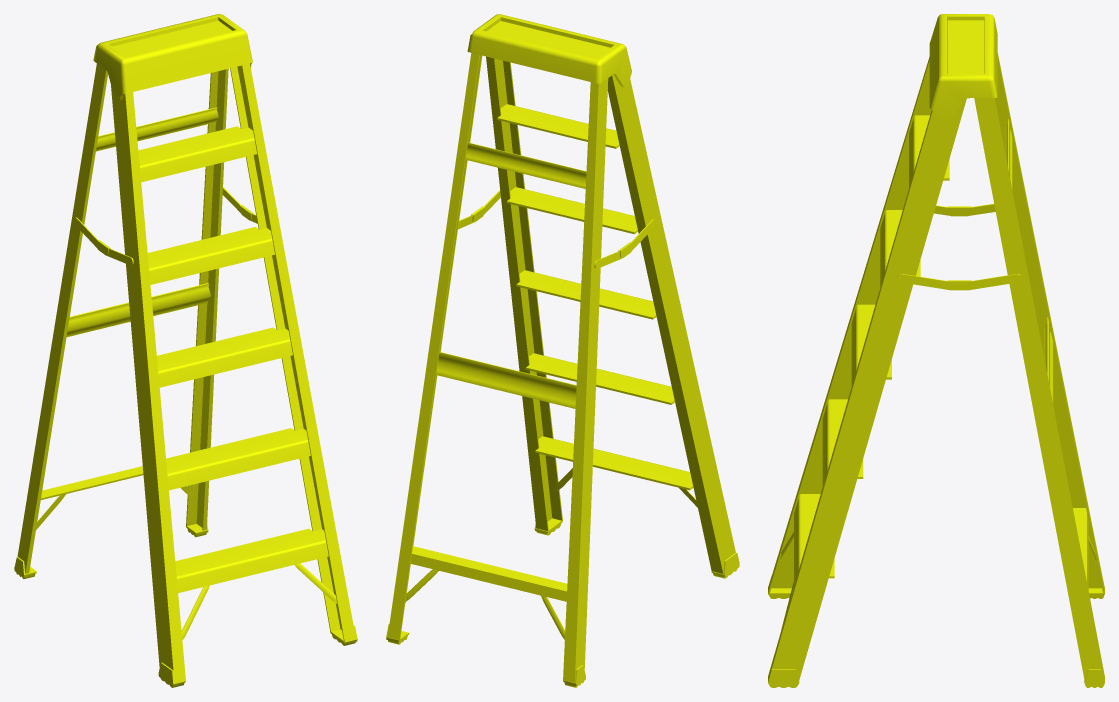
File: SM_Ladder_01b.FBX
3 renders of one model, left to right at view 1: azimuth 30°, elevation 25°; view 2: azimuth 150°, elevation 25°; view 3: azimuth 270°, elevation 25°, orthographic. The views are drawn at different scales.
Parts seen in each view (by area): view 1: SM_Ladder_01b_SM_Ladder_LOD0; view 2: SM_Ladder_01b_SM_Ladder_LOD0; view 3: SM_Ladder_01b_SM_Ladder_LOD0.
Part boxes in pixels (x1,y1,x2,y2): SM_Ladder_01b_SM_Ladder_LOD0: (14,14,357,687); SM_Ladder_01b_SM_Ladder_LOD0: (386,14,739,687); SM_Ladder_01b_SM_Ladder_LOD0: (768,14,1104,687).
Size of what is drawn, in the model's own units: 62.09 by 181 by 92.51.
